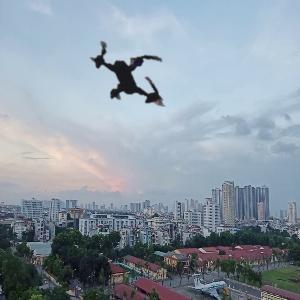drone: (51, 1, 205, 155)
